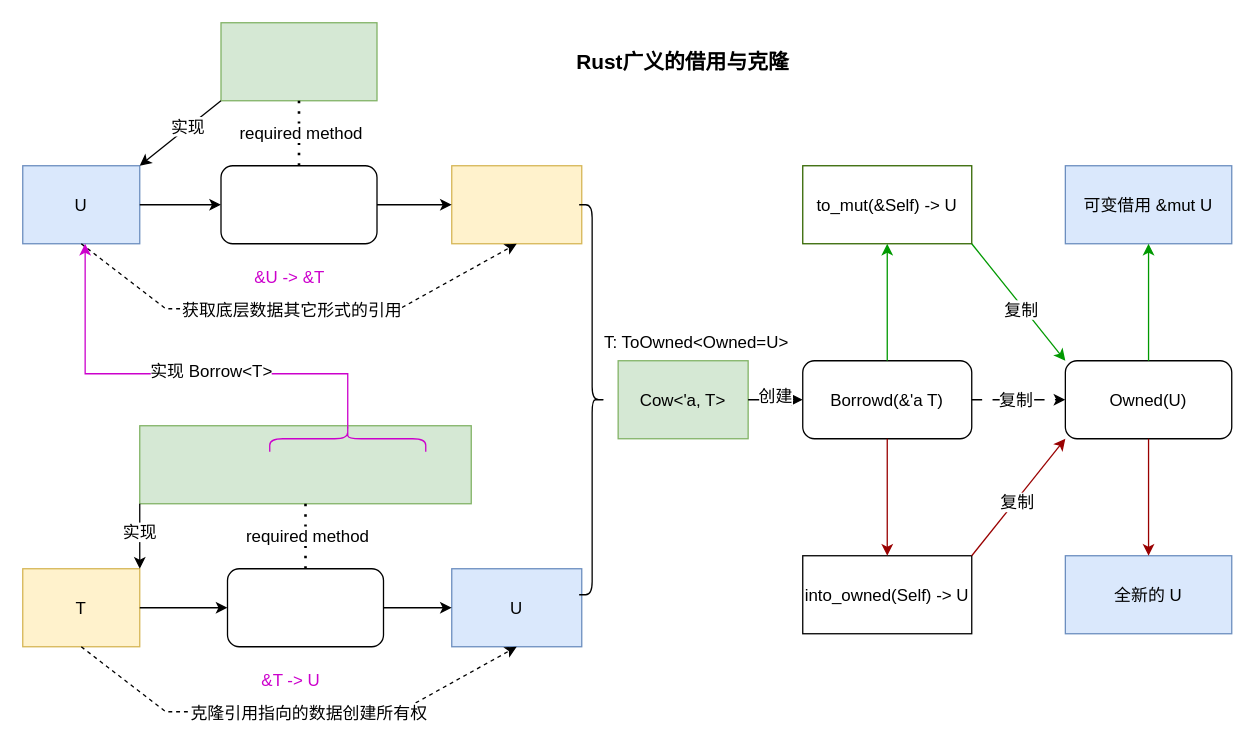
Some shapes in this 1255 by 745 pixel diagram are drawn without their labels. Here are the shapes that lost their labels. From the top down, the box of each, then its label:
(220, 21, 377, 101): Trait Borrow< T >
(220, 164, 377, 244): borrow(&U) -> & T
(450, 164, 582, 244): & T
(138, 424, 471, 504): Trait ToOwned< Owned: Borrow<Self> >
(226, 567, 384, 647): to_owned(&T) -> U
